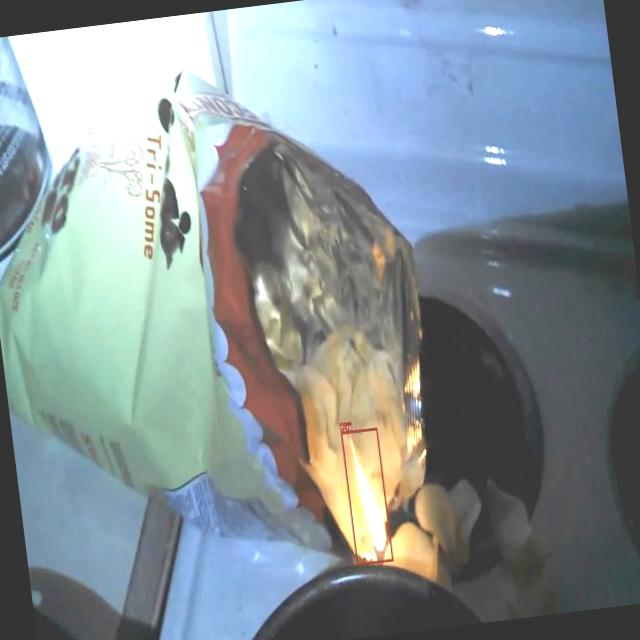fire: (340, 426, 393, 565)
